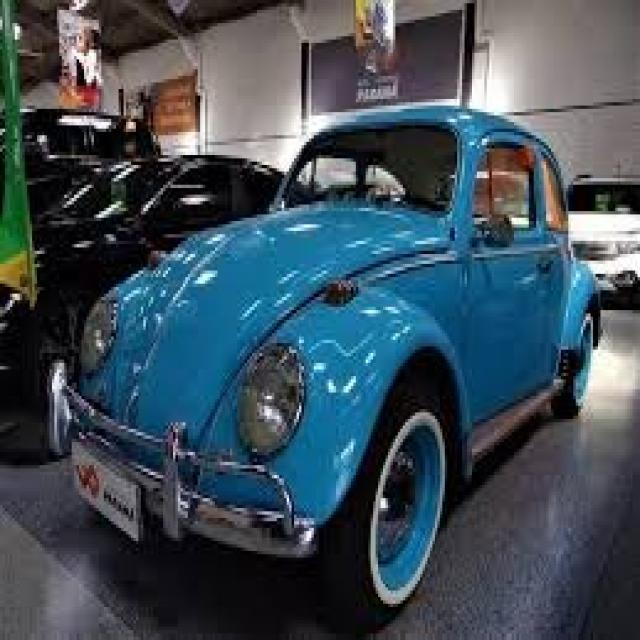cars: (55, 114, 602, 626)
